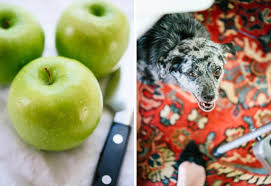apple: (11, 63, 107, 147), (58, 5, 131, 71), (1, 6, 42, 83)
